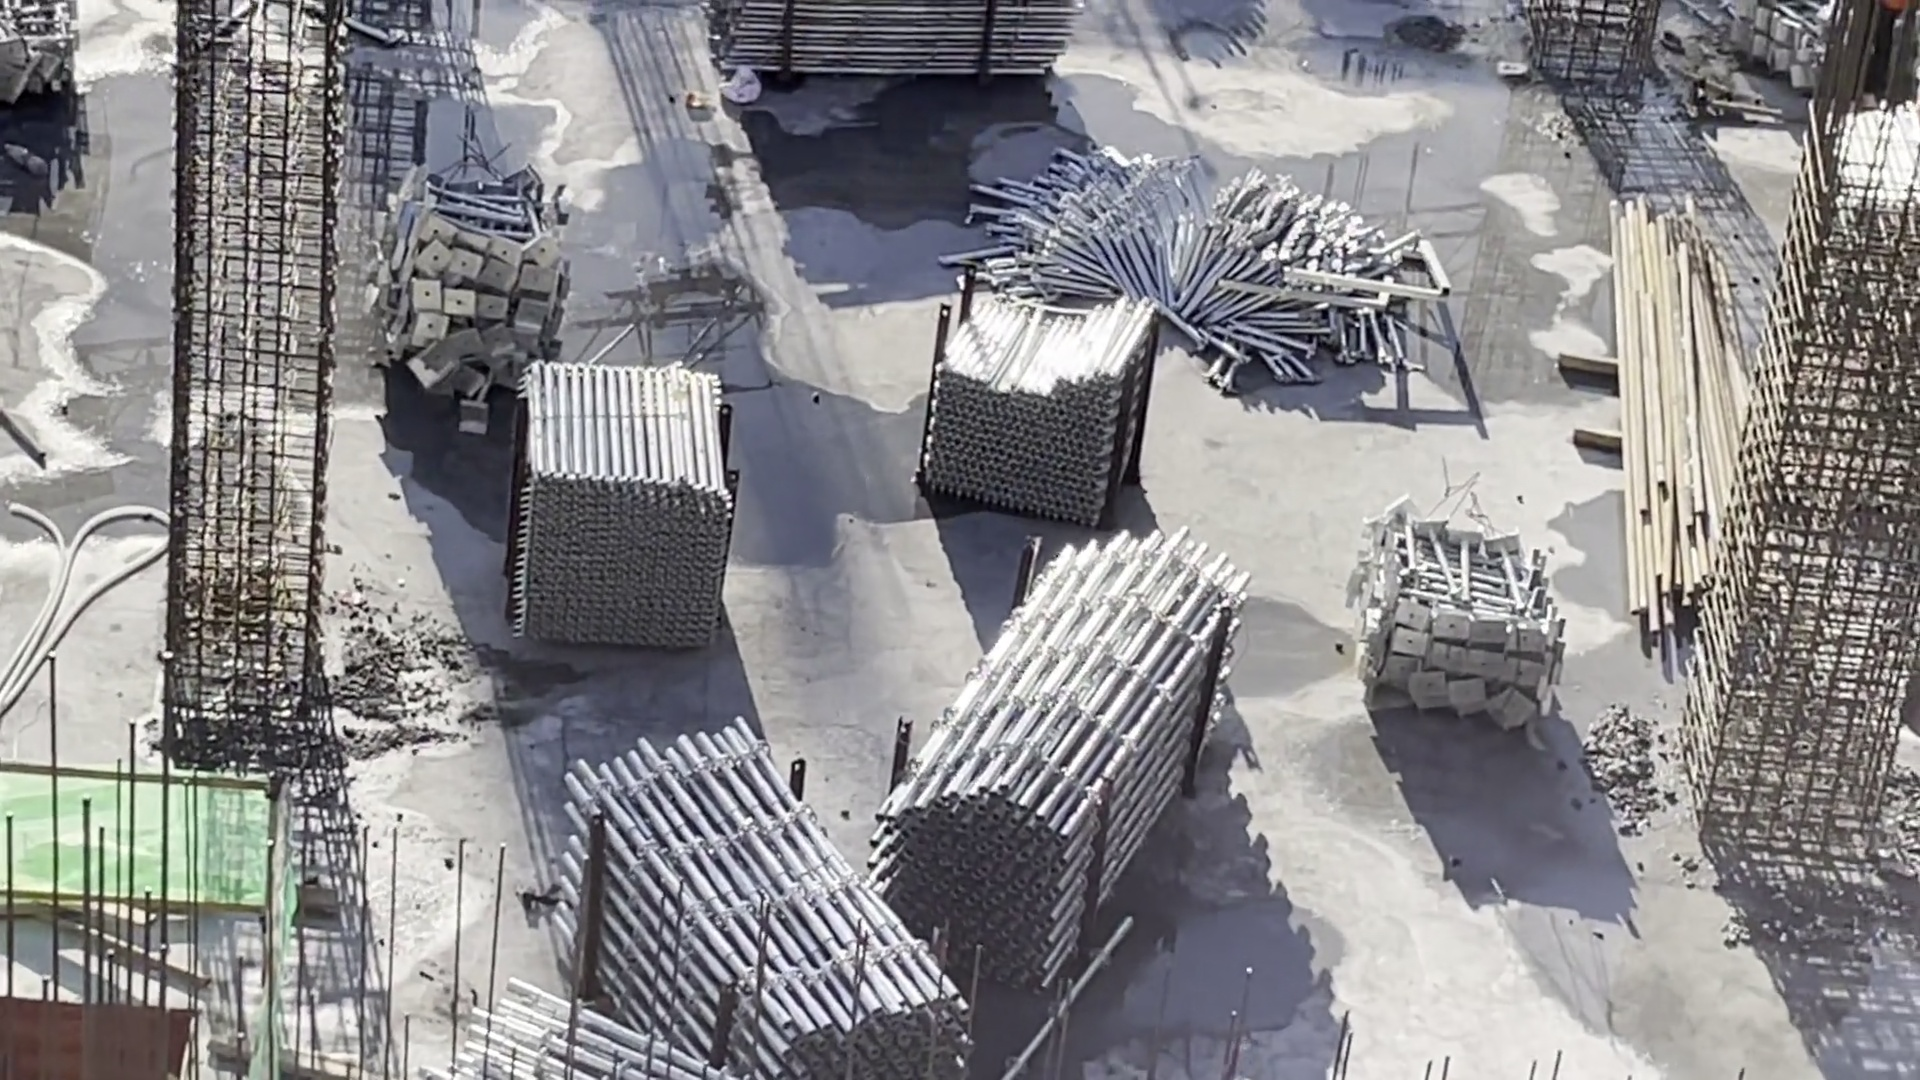scaffold: (568, 736, 992, 1065), (899, 541, 1226, 938), (997, 135, 1424, 378), (514, 352, 733, 642), (1353, 489, 1564, 727), (934, 280, 1134, 512), (386, 167, 554, 405), (705, 1, 1101, 90), (468, 985, 705, 1080)
